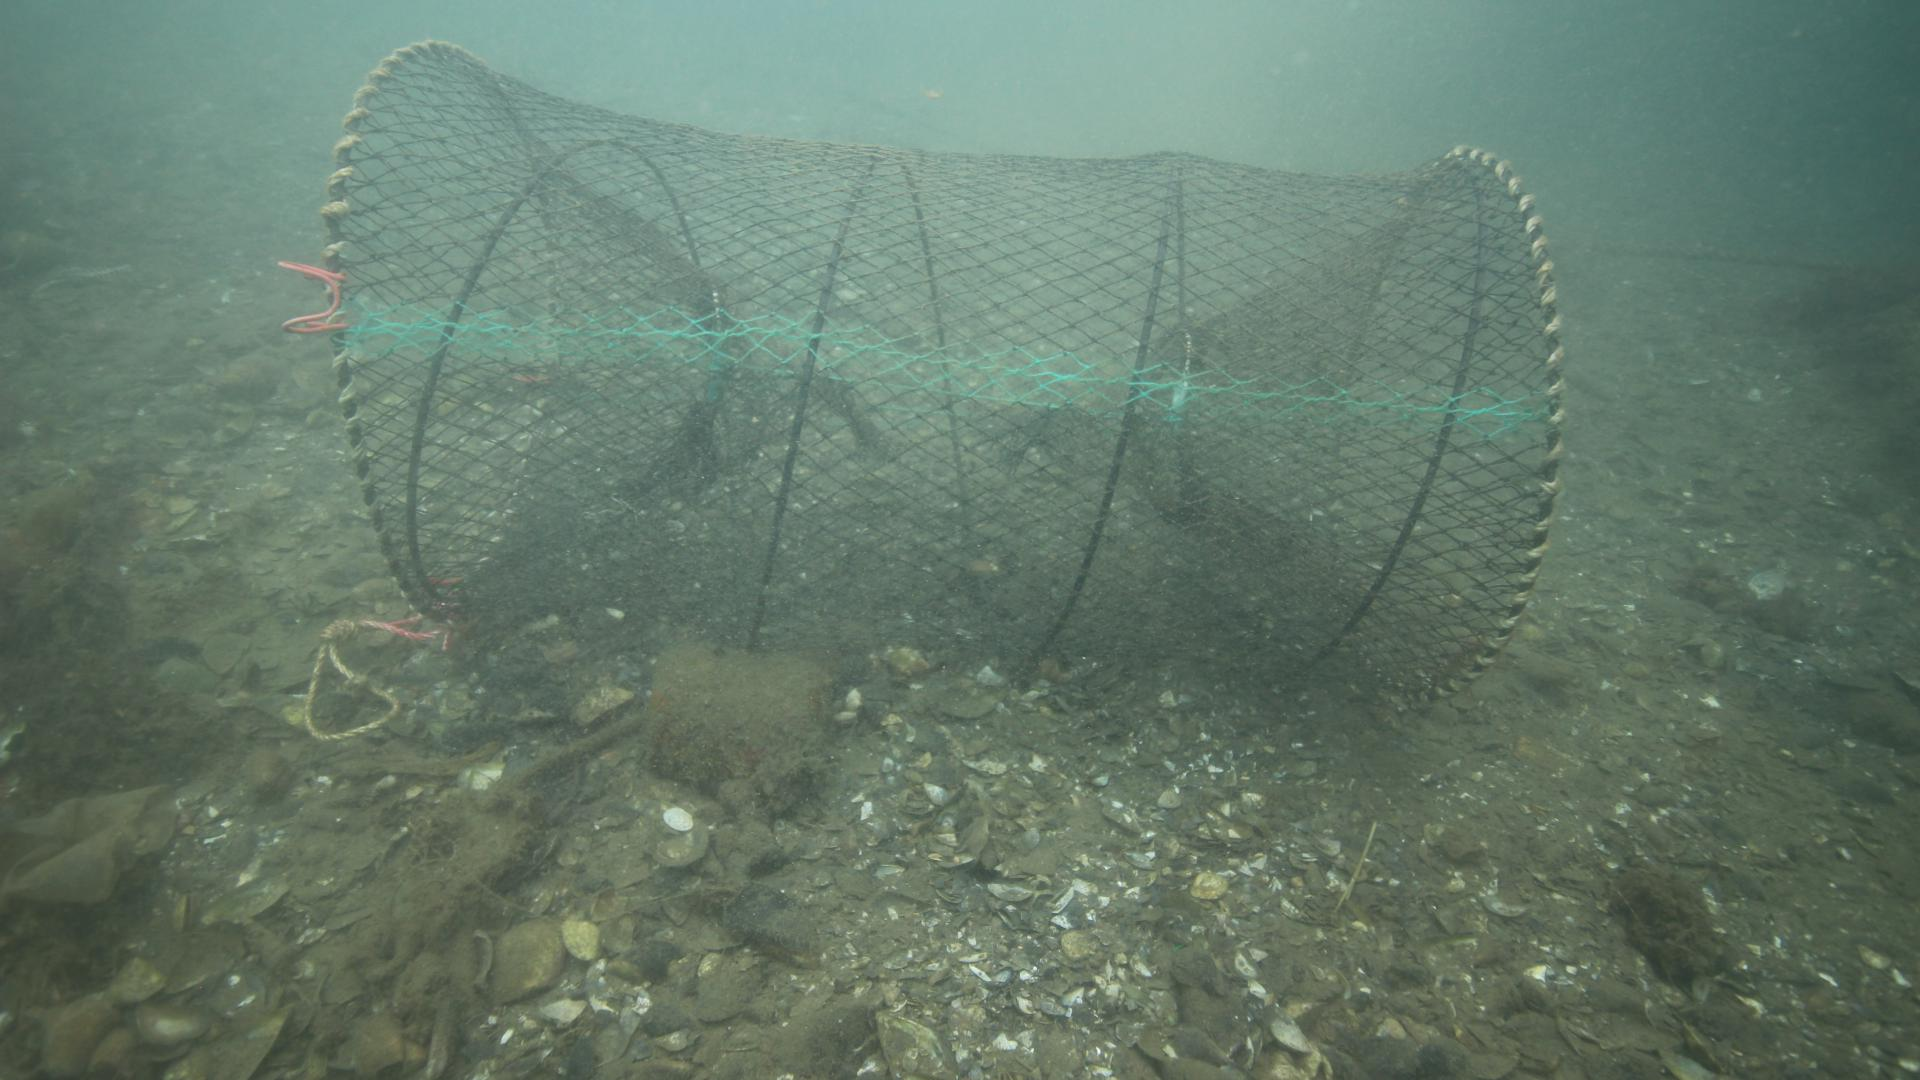rope: (299, 612, 455, 742)
spring fish trap: (320, 38, 1563, 712)
